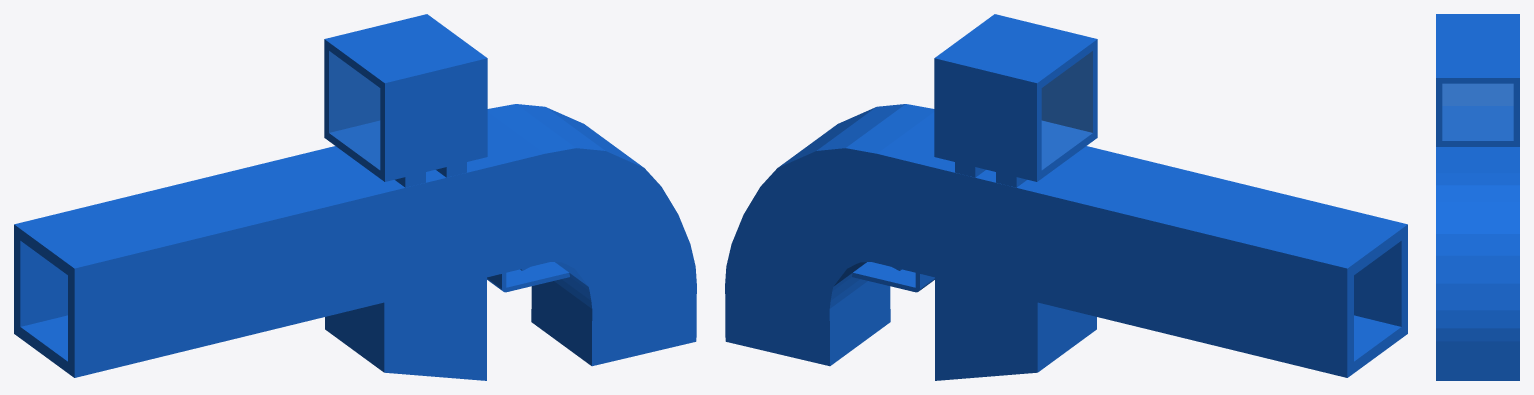
Rendered from shotgun.fbx.
3 renders of one model, left to right at view 1: azimuth 30°, elevation 25°; view 2: azimuth 150°, elevation 25°; view 3: azimuth 270°, elevation 25°, orthographic. The views are drawn at different scales.
Parts seen in each view (by area): view 1: Body, Scope, Mag; view 2: Body, Scope, Mag; view 3: Body, Scope.
Boxes of the visible parts, x1,y1,x2,y2 form: Body: (14, 104, 696, 377); Scope: (324, 14, 487, 187); Mag: (325, 277, 486, 380); Body: (725, 104, 1407, 377); Scope: (934, 14, 1097, 187); Mag: (935, 277, 1096, 380); Body: (1436, 14, 1519, 380); Scope: (1436, 43, 1519, 146).
Bounding box in the file's own units: 1.5 × 0.7711 × 0.2525.
